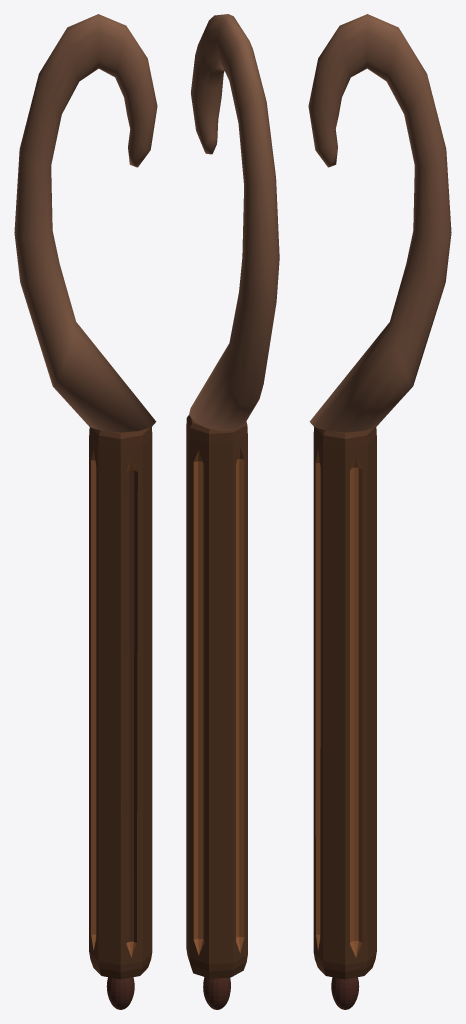
Rendered from Wand 586.glb.
3 views of the same model, side by side, from view 1: azimuth 90°, elevation 25°; view 2: azimuth 210°, elevation 25°; view 3: azimuth 270°, elevation 25° (orthographic).
Parts seen in each view (by area): view 1: GeneratedWand; view 2: GeneratedWand; view 3: GeneratedWand.
Boxes of the visible parts, x1,y1,x2,y2 form: GeneratedWand: [14, 14, 157, 1009]; GeneratedWand: [186, 14, 279, 1009]; GeneratedWand: [308, 14, 451, 1009].
Size of the model in its own units: 0.0289 by 0.5021 by 0.0654.
